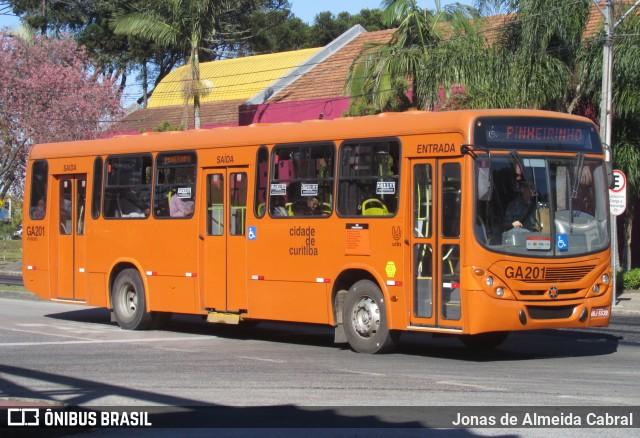PINHEIRINHO: (501, 124, 585, 148)
